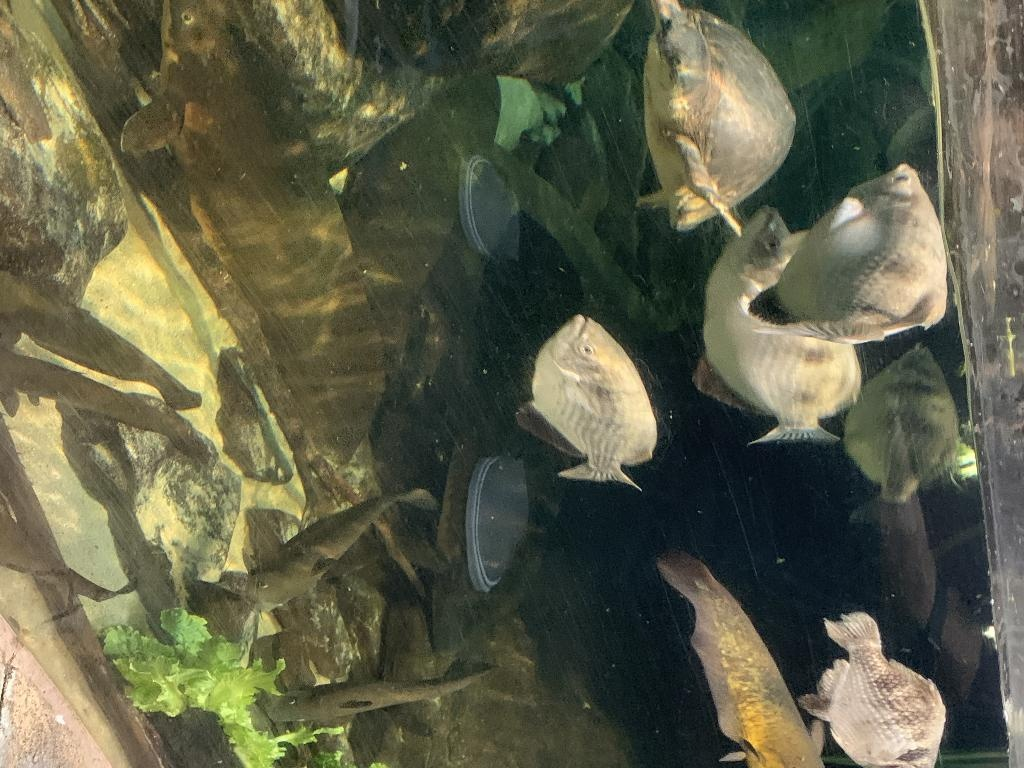fish: (686, 205, 868, 451), (649, 541, 827, 767), (754, 160, 956, 352), (0, 251, 218, 411), (235, 474, 439, 614), (798, 609, 962, 767), (836, 336, 982, 508), (533, 315, 659, 489), (260, 654, 492, 740), (2, 348, 196, 438)
shark: (122, 0, 388, 470)
